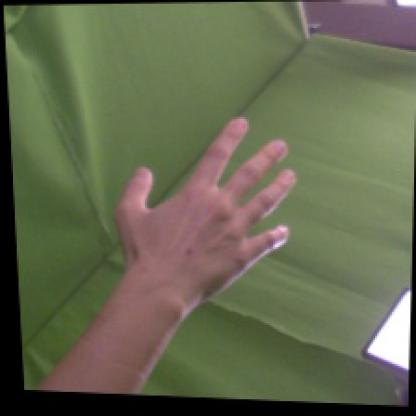Hand: (115, 115, 299, 294)
